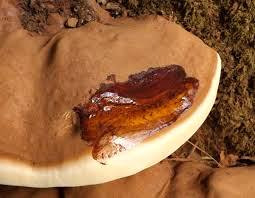Ganoderma - Fruit Body: (0, 11, 223, 186)
